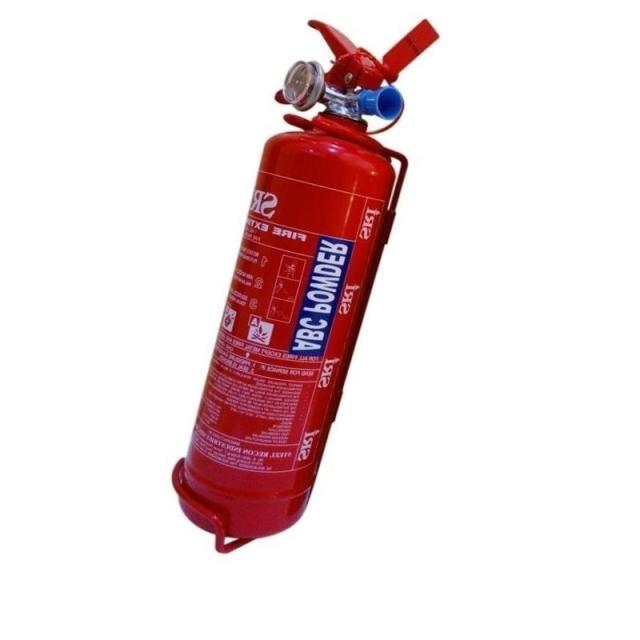fire_extinguisher: (172, 12, 444, 542)
